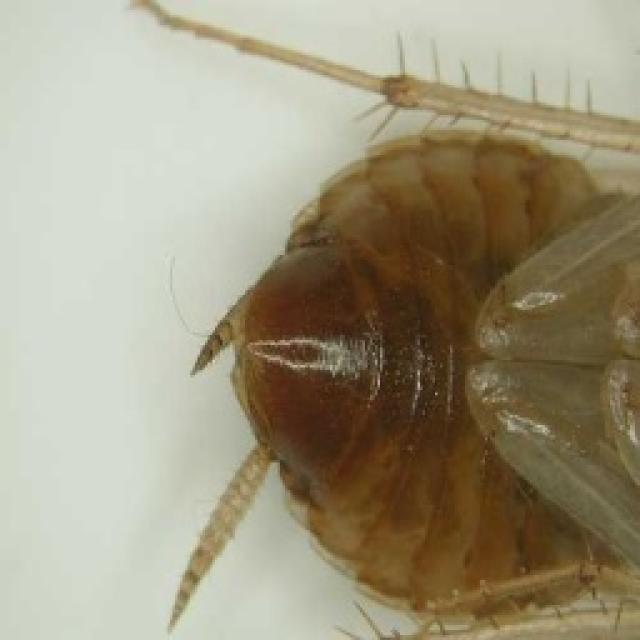cockroach: (208, 129, 612, 612)
